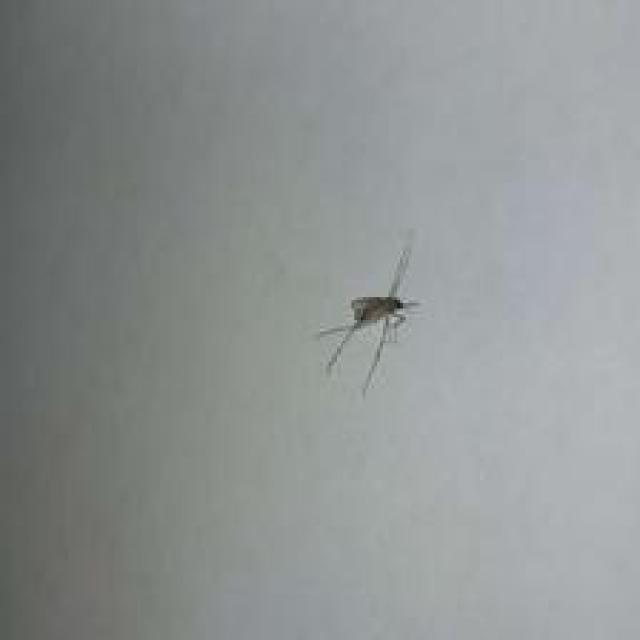Culex: (316, 246, 421, 394)
